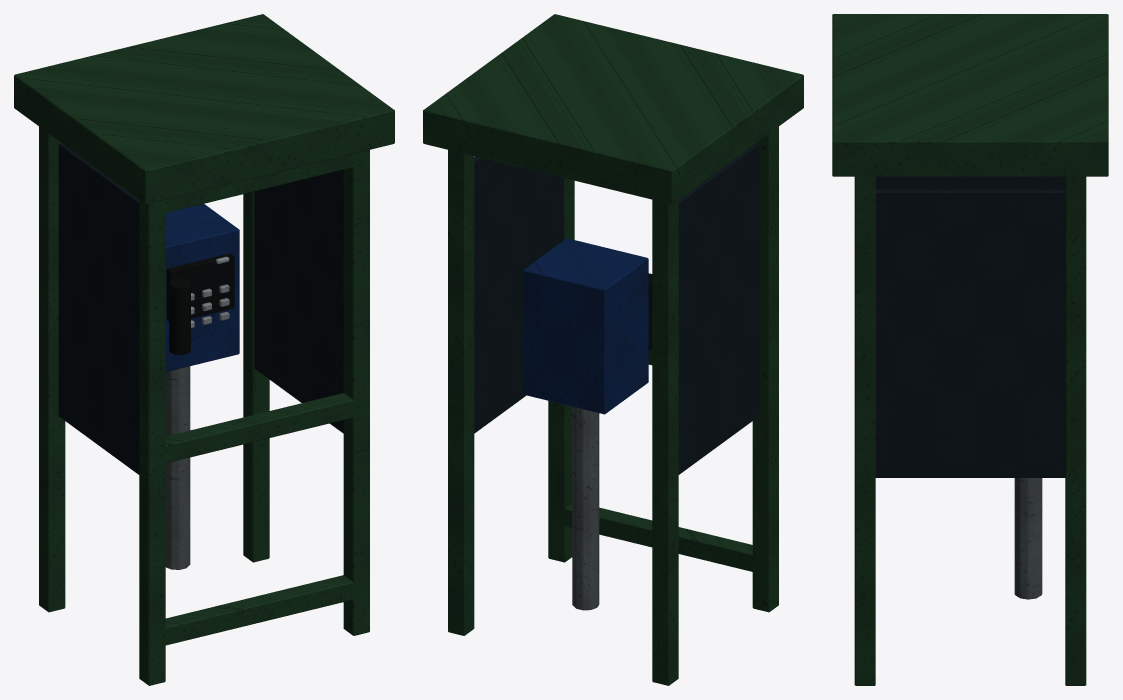
Rendered from PROP-0D93FAFB066D_lod1.glb.
3 views of the same model, side by side, from view 1: azimuth 30°, elevation 25°; view 2: azimuth 150°, elevation 25°; view 3: azimuth 270°, elevation 25° (orthographic). The views are drawn at different scales.
Visible parts, largest first — view 1: booth_roof.002, booth_posts.002, booth_glazing.002, booth_front_rails.002, cabinet.010, fixture_post.005, recessed_front.010, handset.002, phone_keypad.002; view 2: booth_roof.002, booth_posts.002, booth_glazing.002, cabinet.010, fixture_post.005, booth_front_rails.002; view 3: booth_glazing.002, booth_roof.002, booth_posts.002, fixture_post.005.
Part boxes in pixels (left/top/right/bottom): booth_roof.002: left=14, top=14, right=394, bottom=204; booth_posts.002: left=39, top=126, right=369, bottom=685; booth_glazing.002: left=58, top=143, right=343, bottom=474; booth_front_rails.002: left=152, top=150, right=367, bottom=645; cabinet.010: left=165, top=204, right=239, bottom=371; fixture_post.005: left=165, top=366, right=190, bottom=569; recessed_front.010: left=166, top=253, right=234, bottom=321; handset.002: left=169, top=278, right=190, bottom=355; phone_keypad.002: left=191, top=284, right=229, bottom=328; booth_roof.002: left=423, top=14, right=803, bottom=204; booth_posts.002: left=448, top=126, right=778, bottom=685; booth_glazing.002: left=474, top=143, right=759, bottom=474; cabinet.010: left=523, top=238, right=648, bottom=414; fixture_post.005: left=572, top=406, right=599, bottom=610; booth_front_rails.002: left=550, top=348, right=752, bottom=571; booth_glazing.002: left=875, top=176, right=1065, bottom=477; booth_roof.002: left=832, top=14, right=1108, bottom=176; booth_posts.002: left=854, top=176, right=1086, bottom=685; fixture_post.005: left=1014, top=478, right=1042, bottom=599.
Size of the model in its own units: 1.15 by 2.32 by 1.05.
Materials: 6 (6 with a texture image).
